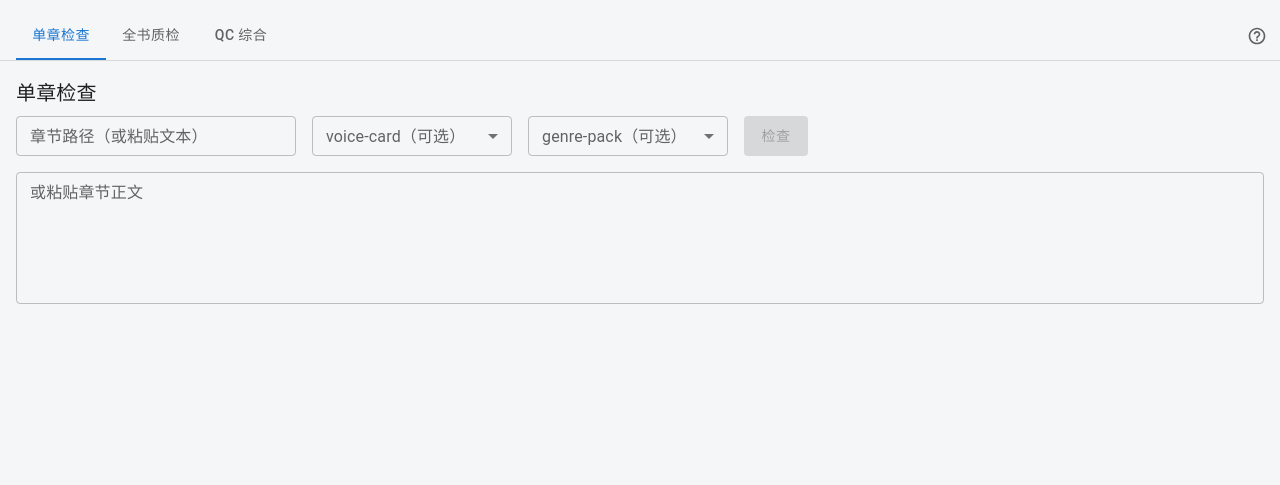
Scenario: BookQualityPanel 截断提示 › 未截断且不超过面板行数（12 条）时，不显示任何提示且 12 行全渲染
Click the tab "全书质检".
click(151, 36)  # box [106,12,196,60]
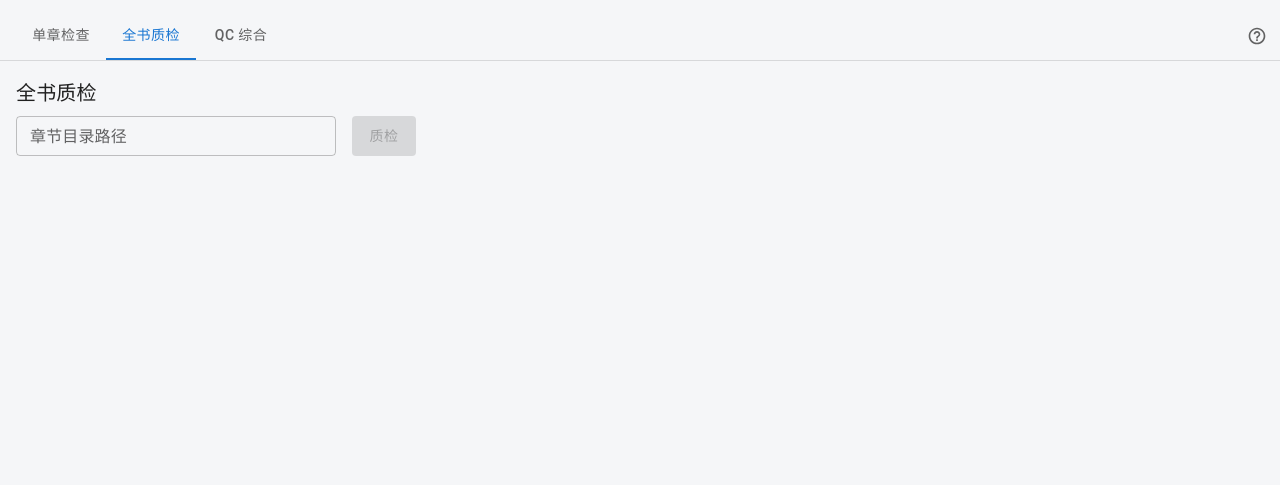
Type "chapters" into the field labelled "章节目录路径".
click(176, 136); type("chapters")  # box [16,116,336,156]
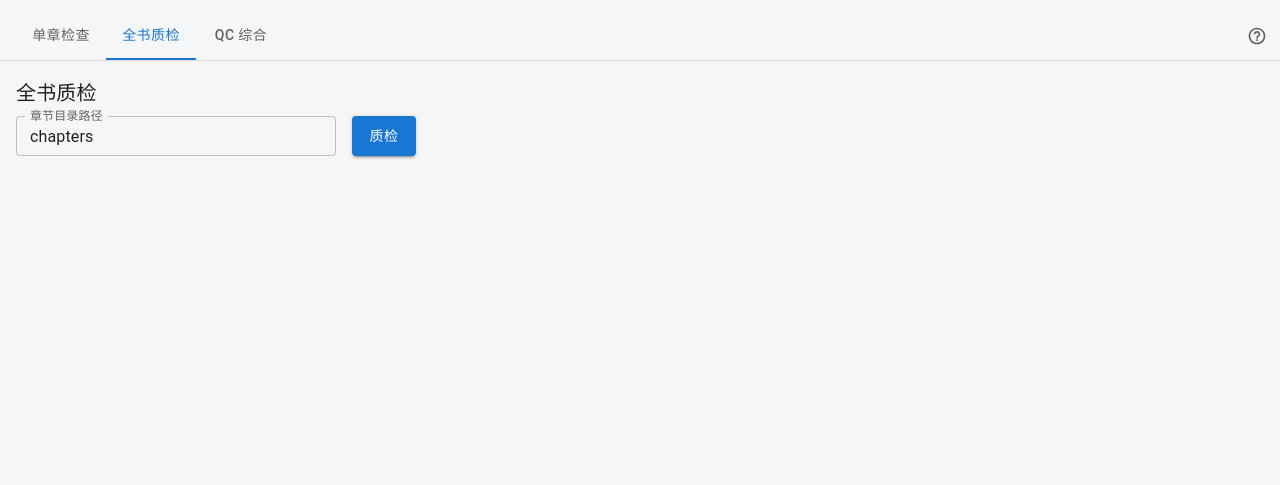
Click the button "质检".
click(384, 136)  # box [352,116,416,156]
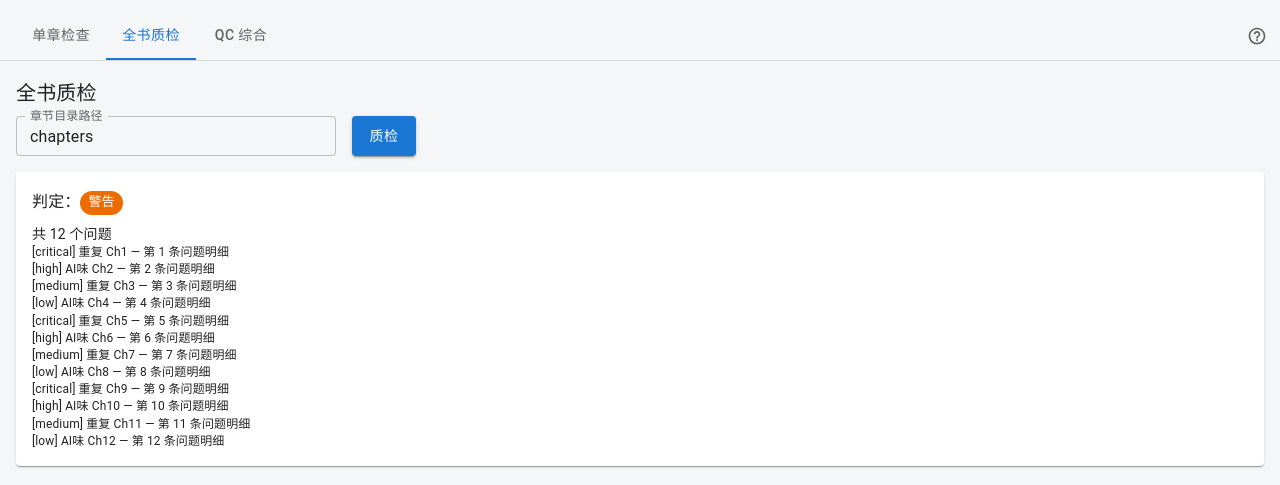
Expected: the text "共 12 个问题" is shown, [32,226,112,242]
Expected: the text "[critical] 重复 Ch1 — 第 1 条问题明细" is shown 12 times
